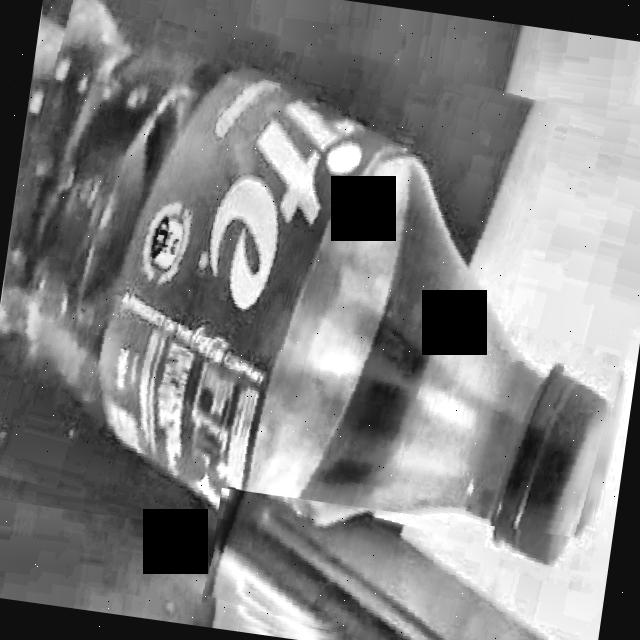bottle: (0, 0, 608, 569), (205, 491, 544, 640)
